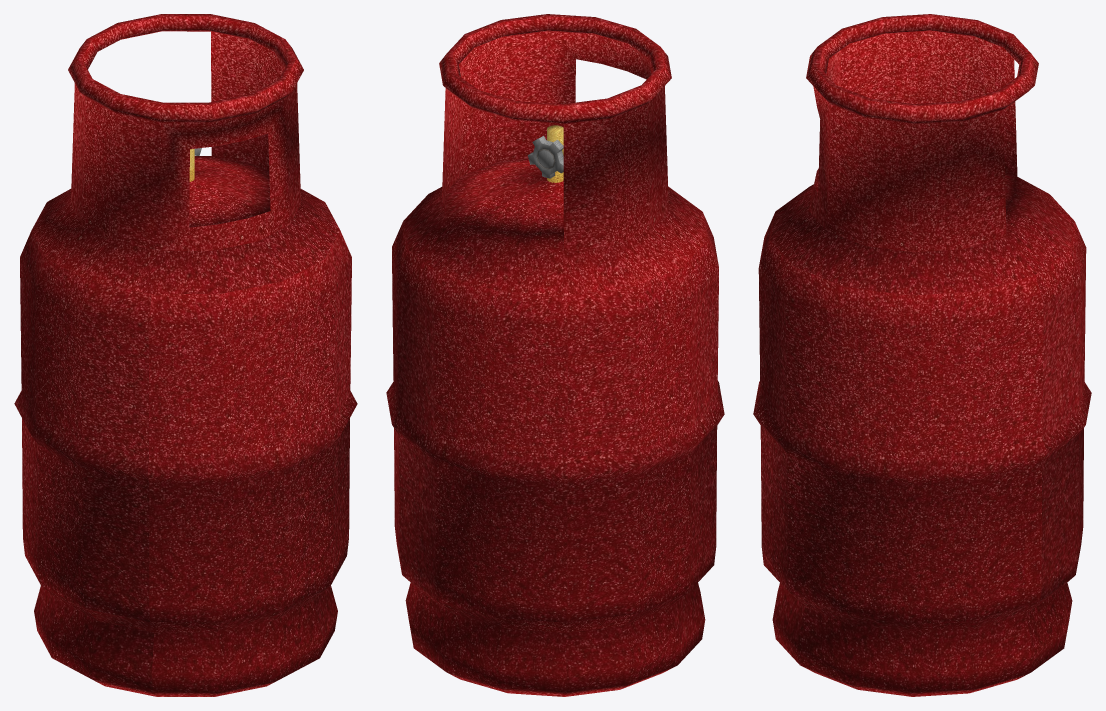
File: GasTank.fbx
The picture shows the model from 3 angles, left to right: view 1: azimuth 30°, elevation 25°; view 2: azimuth 150°, elevation 25°; view 3: azimuth 270°, elevation 25°; orthographic projection.
Parts seen in each view (by area): view 1: GasTank; view 2: GasTank; view 3: GasTank.
Boxes of the visible parts, bbox=[...] form: GasTank: bbox=[14, 14, 357, 696]; GasTank: bbox=[386, 14, 724, 696]; GasTank: bbox=[753, 14, 1091, 696].
Bounding box in the file's own units: 1319 × 2484 × 1309.
